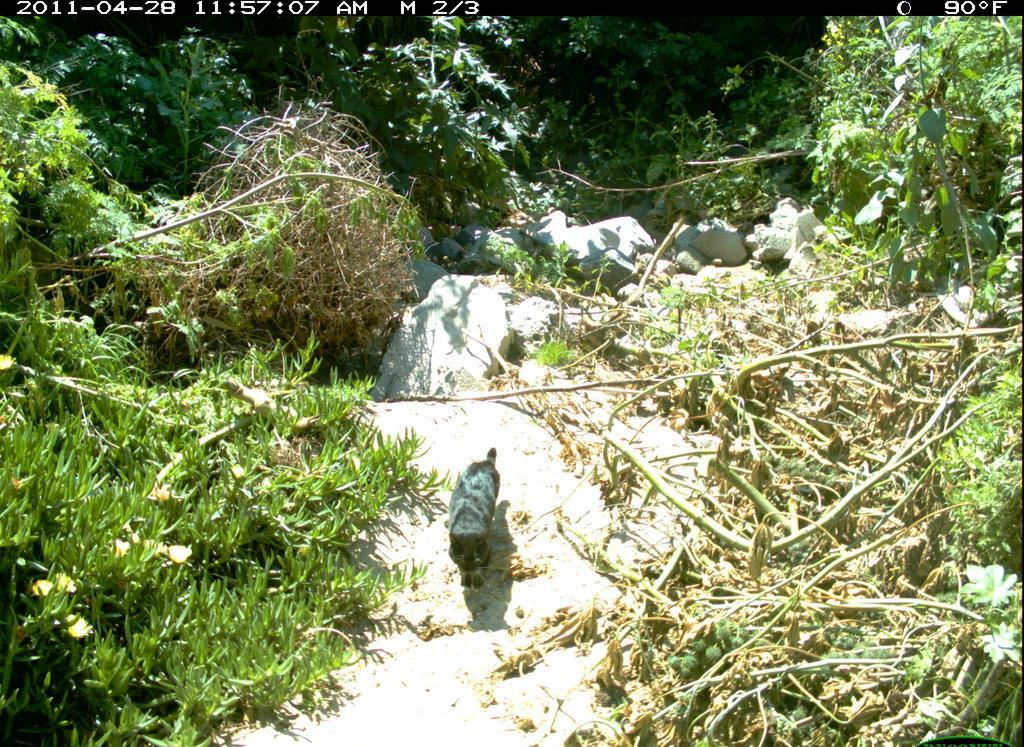cat: (443, 447, 506, 597)
